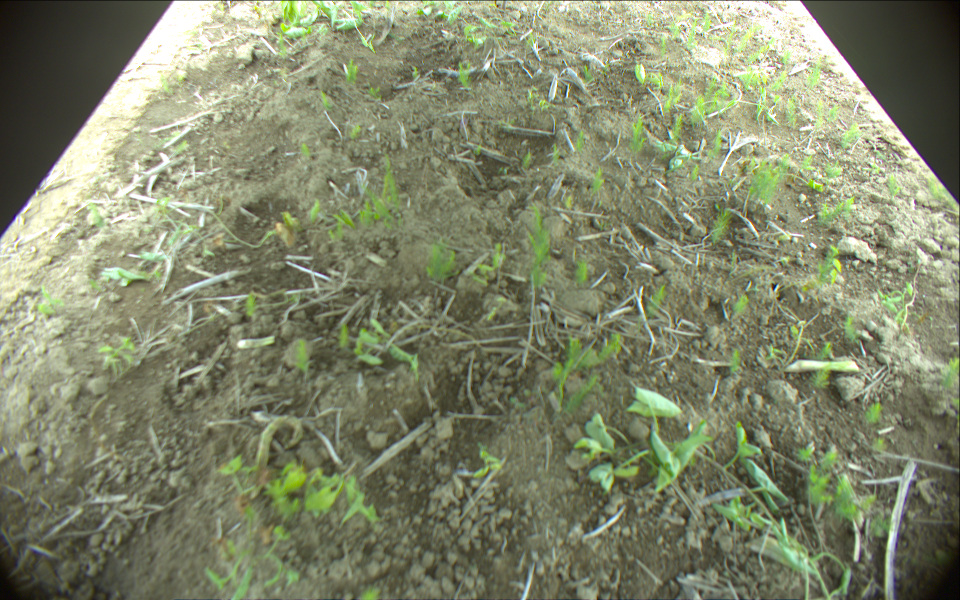aspa: (255, 414, 302, 482)
